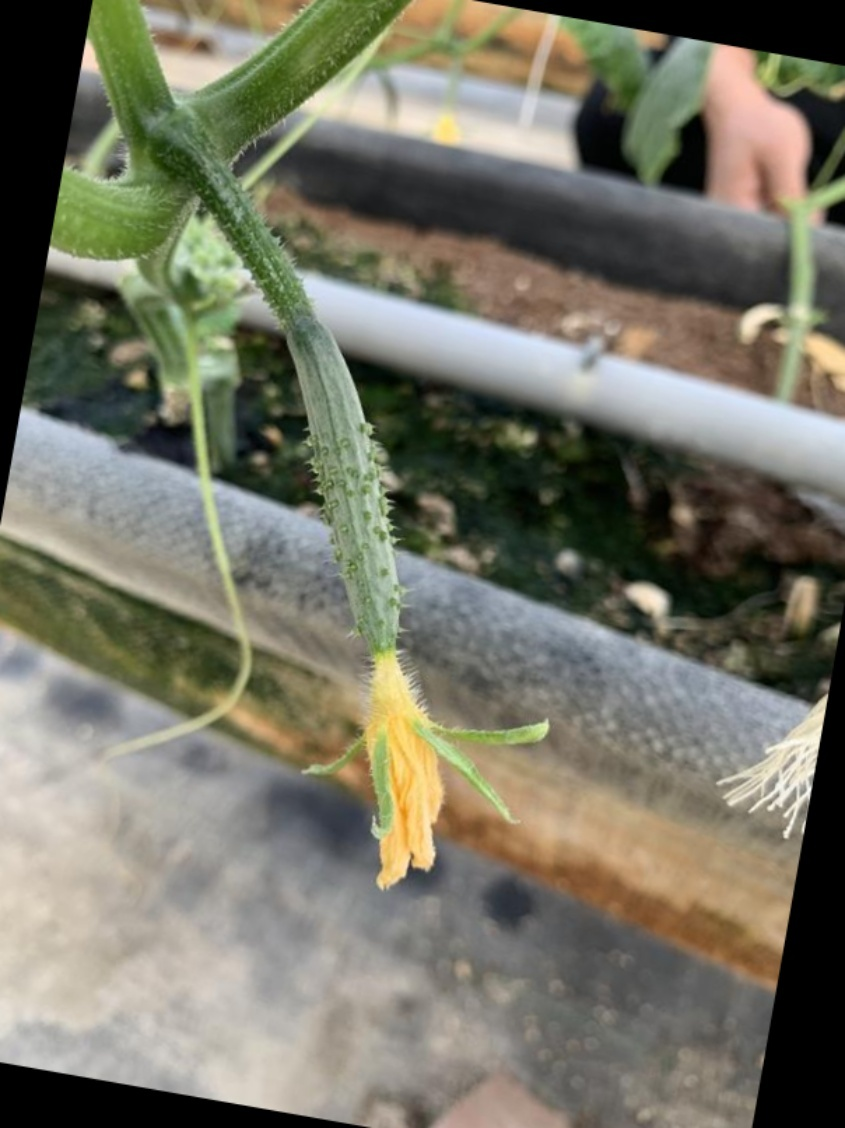bear: (193, 268, 562, 909)
